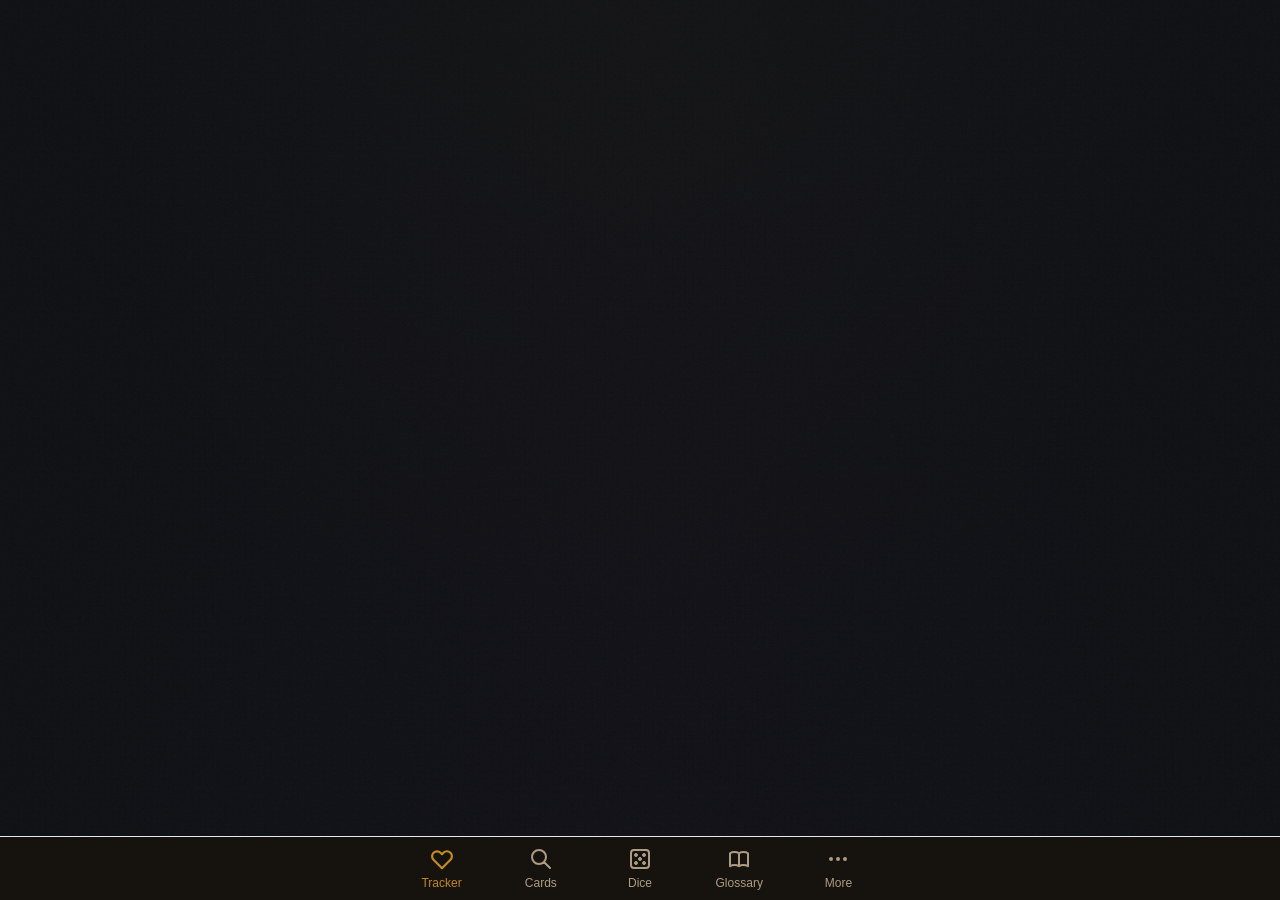
Test: BottomNavBar (redesigned) › opens an accessible dialog and returns focus to More after Escape
This screenshot has width=1280, height=900.
Step 1. Click the button with aria-label "More options" → (838, 868), box left=789, top=837, right=888, bottom=899
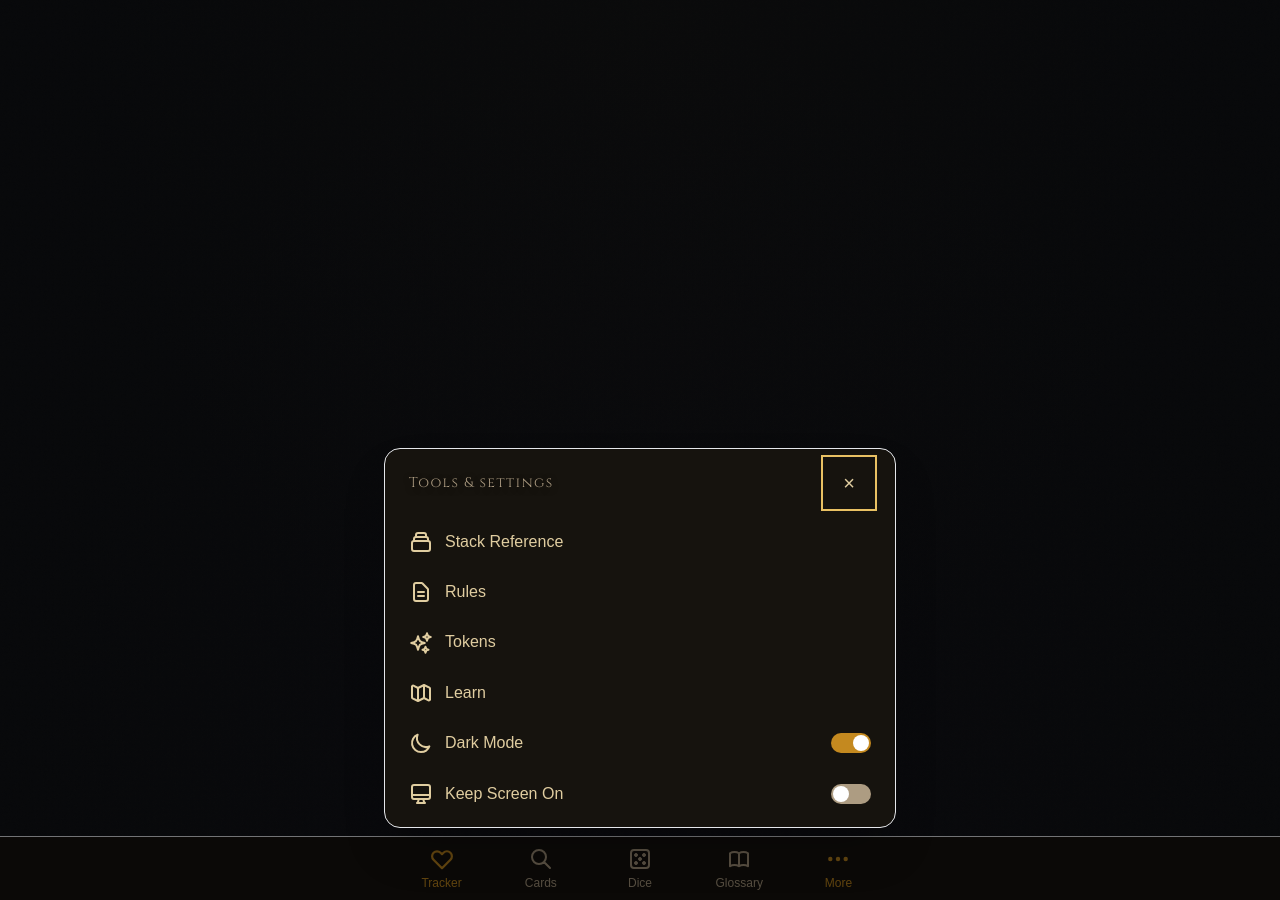
Step 2. Press Escape
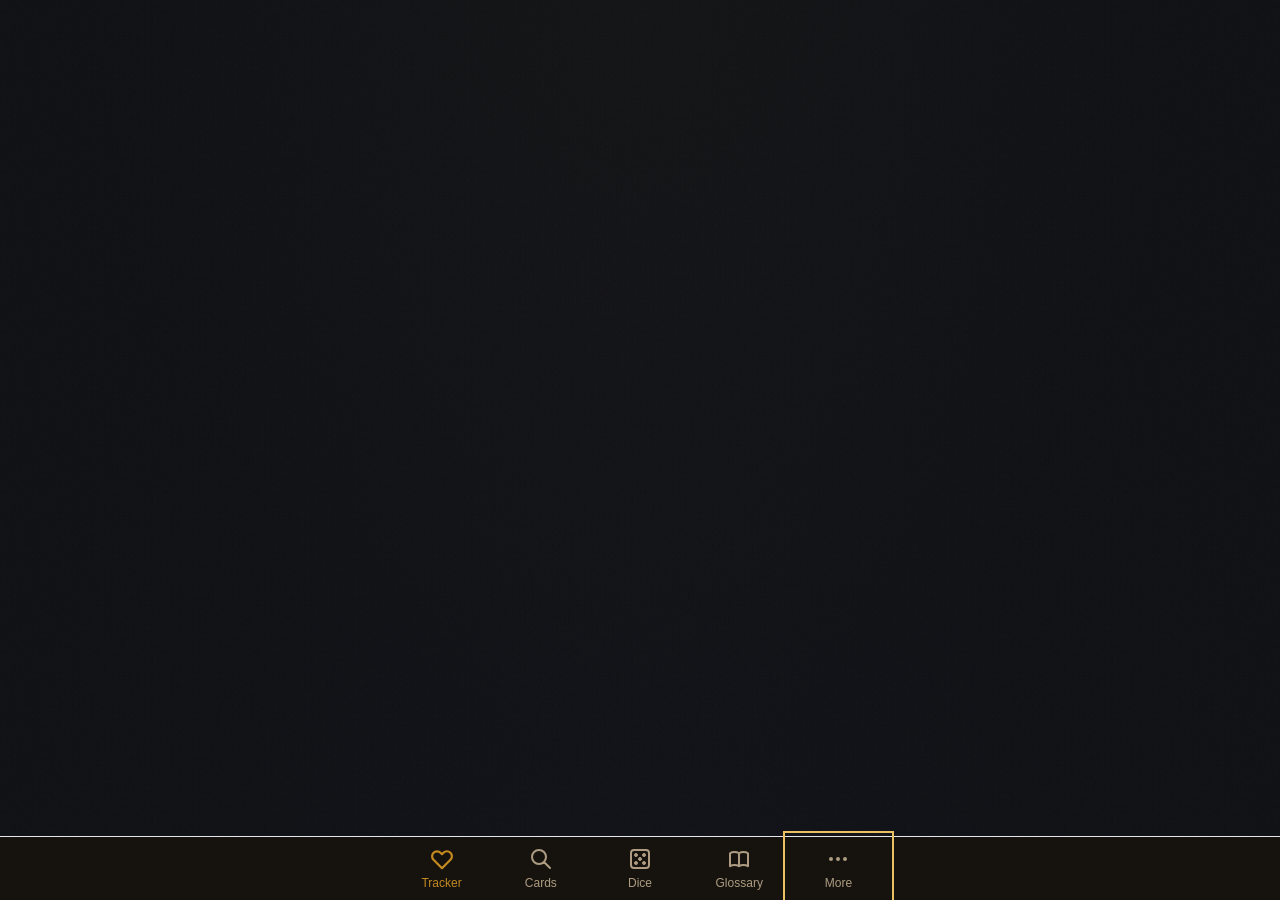
Expected: the dialog is gone
